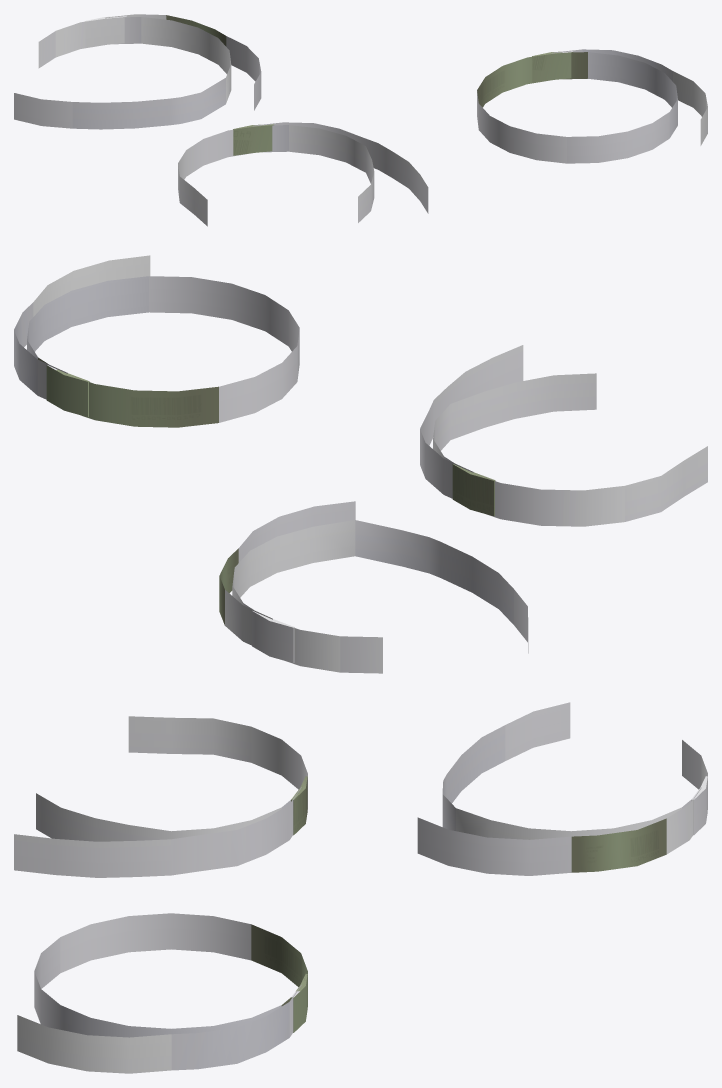
Rendered from pulsera1contextura.fbx.
3 renders of one model, top to bottom at view 1: azimuth 30°, elevation 25°; view 2: azimuth 150°, elevation 25°; view 3: azimuth 270°, elevation 25°, orthographic. The views are drawn at different scales.
Visible parts, largest first — view 1: pCylinder7; view 2: pCylinder7; view 3: pCylinder7.
Part boxes in pixels (x1,y1,x2,y2): pCylinder7: [14, 14, 707, 226]; pCylinder7: [14, 255, 707, 673]; pCylinder7: [14, 702, 707, 1073].
Size of the model in its own units: 1.66 by 0.1001 by 1.42.
Materials: 1 (1 with a texture image).
